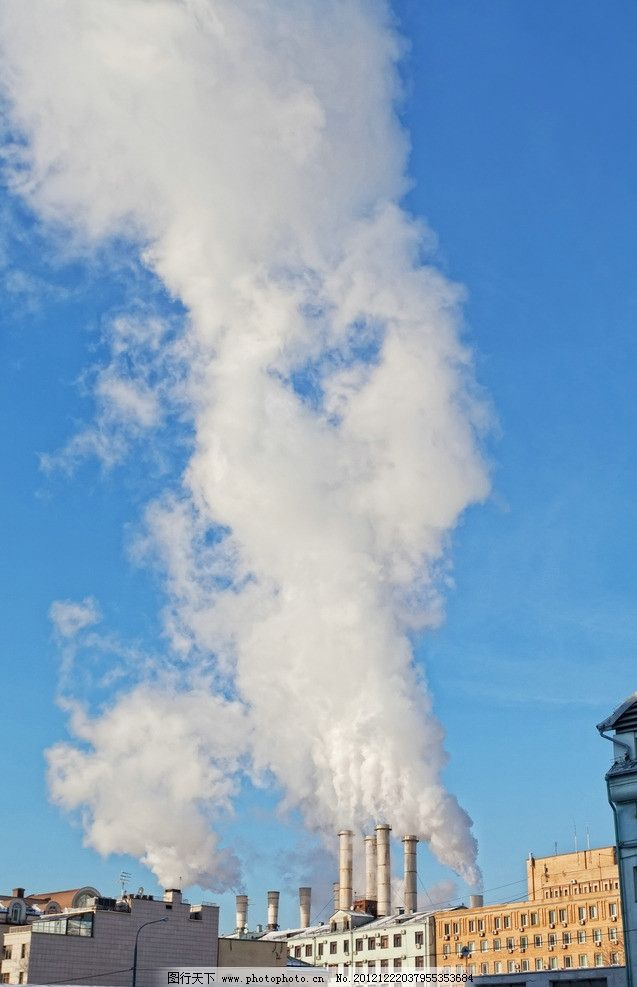dust: (207, 403, 458, 856), (60, 668, 249, 903), (393, 739, 508, 906)
